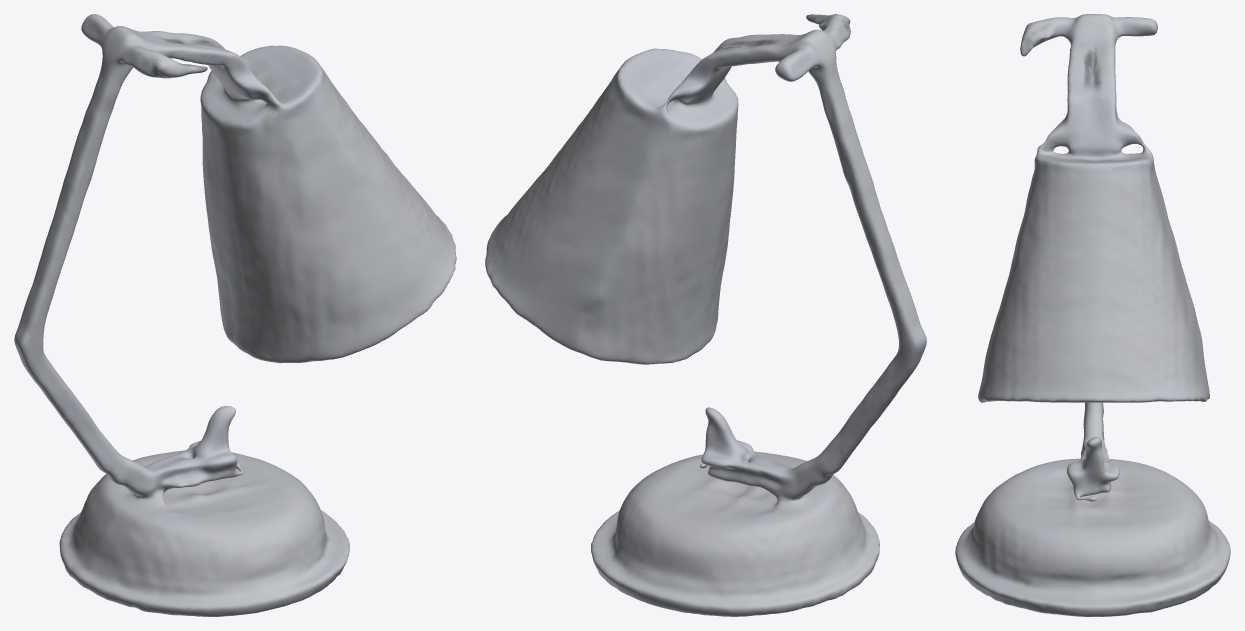
The model's file is 736ae47d91a7_lamp__3d_asset_0_gl.fbx.
3 renders of one model, left to right at view 1: azimuth 30°, elevation 25°; view 2: azimuth 150°, elevation 25°; view 3: azimuth 270°, elevation 25°, orthographic. The views are drawn at different scales.
Parts seen in each view (by area): view 1: high_poly; view 2: high_poly; view 3: high_poly.
Boxes of the visible parts, x1,y1,x2,y2 form: high_poly: (14, 14, 456, 616); high_poly: (485, 14, 926, 616); high_poly: (955, 14, 1230, 616).
Bounding box in the file's own units: 80.3 × 100 × 48.67.
